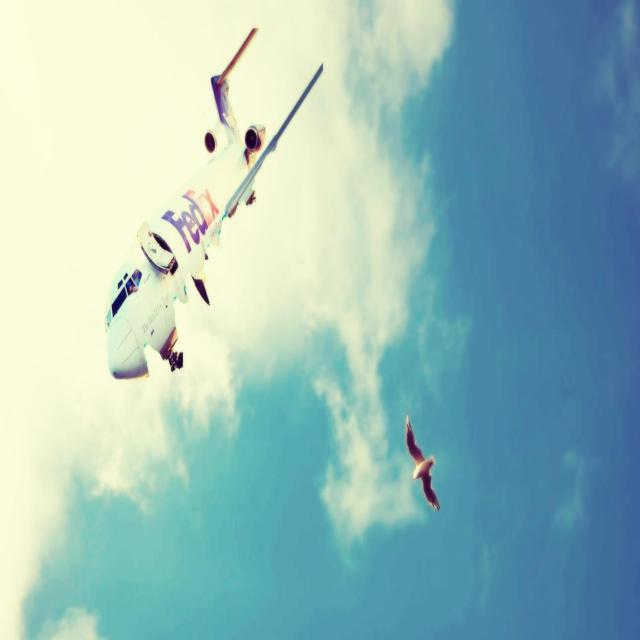airplane: (104, 25, 324, 380)
